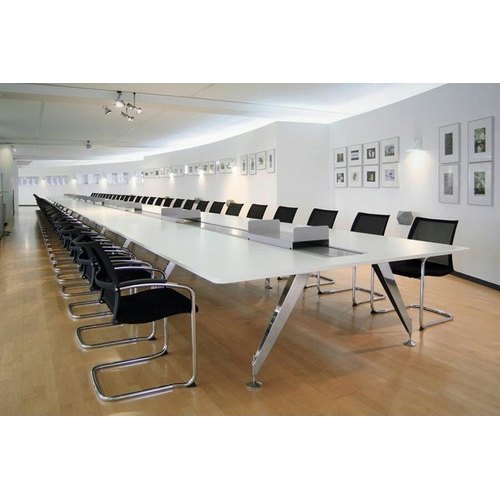conference_table: (38, 193, 470, 389)
